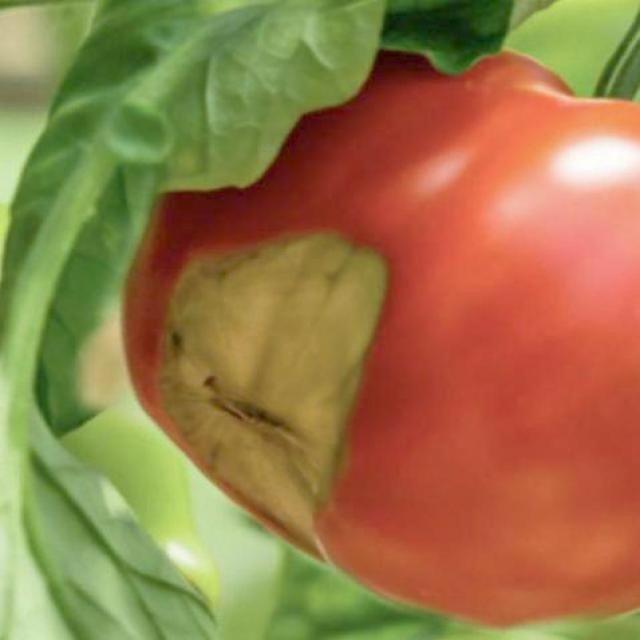Blossom End Rot Fruit: (93, 133, 275, 421)
